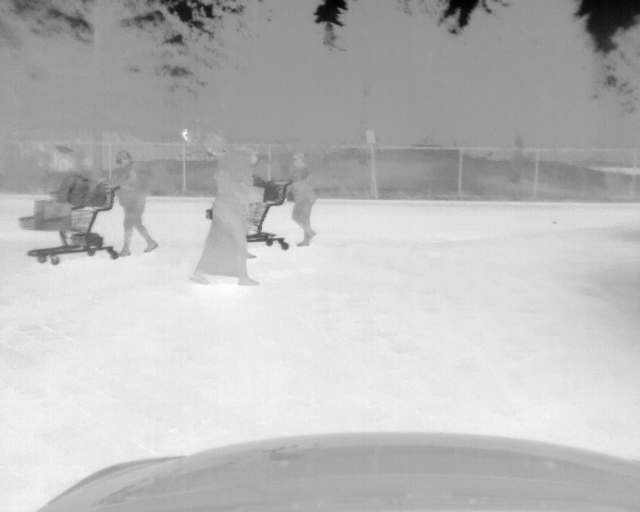people: (191, 145, 262, 290), (108, 151, 158, 257), (285, 148, 319, 247)
